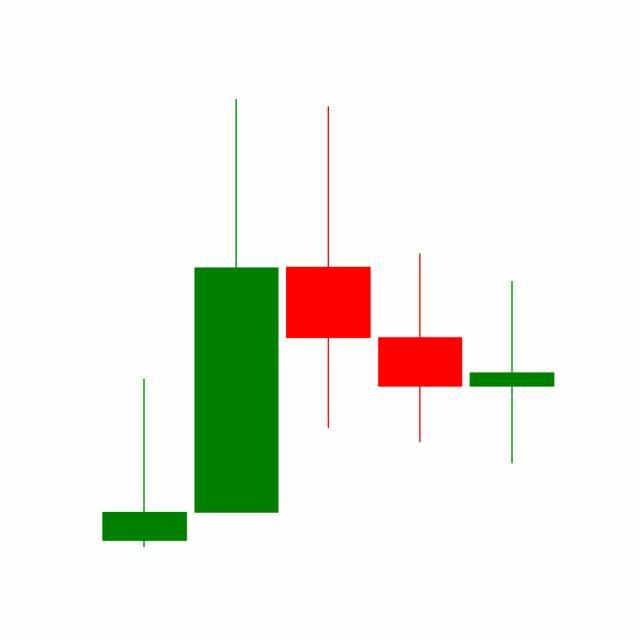Spinning Top: (374, 251, 468, 445)
